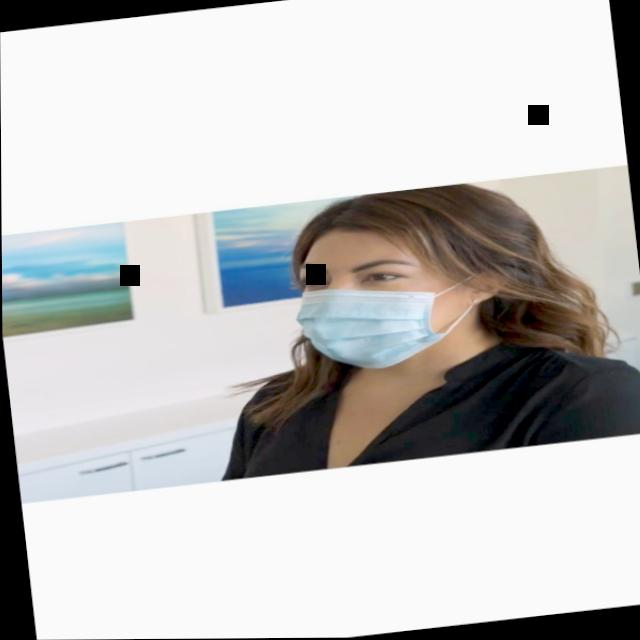Mask: (281, 211, 489, 380)
